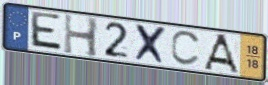2: (103, 21, 130, 61)
A: (202, 32, 241, 76)
C: (170, 30, 204, 68)
E: (28, 10, 64, 54)
H: (62, 12, 100, 60)
X: (133, 22, 170, 67)
